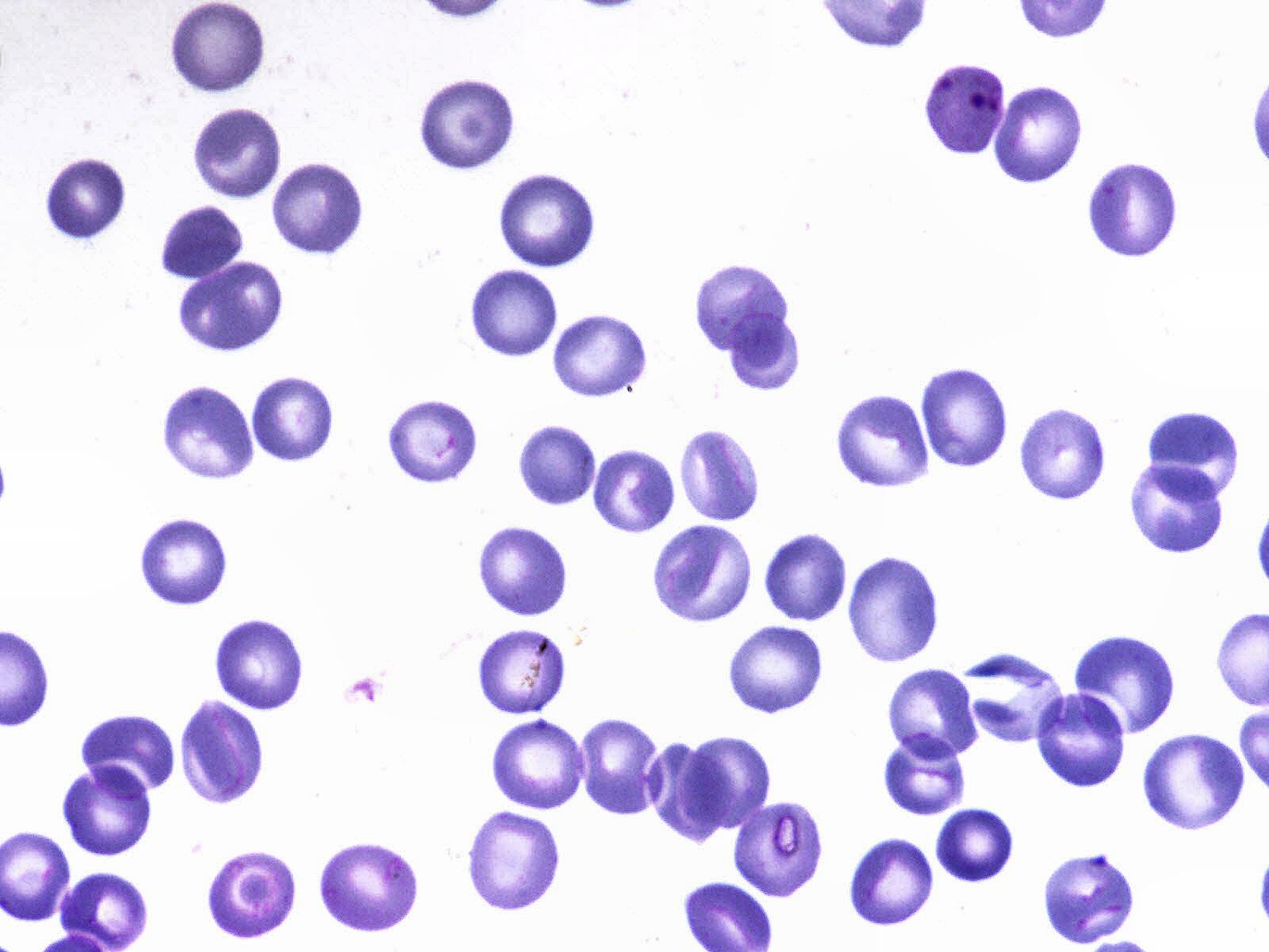Infected: (924, 63, 1006, 154)
Uninfected: (493, 170, 600, 271), (1143, 729, 1248, 831), (851, 552, 940, 668), (1074, 636, 1180, 733), (316, 840, 421, 937), (269, 157, 369, 257), (652, 519, 749, 622), (888, 661, 983, 766), (677, 730, 771, 833), (179, 260, 283, 353), (838, 392, 936, 489), (466, 812, 562, 911), (213, 615, 309, 714), (577, 712, 665, 820), (194, 101, 286, 204), (728, 622, 828, 716), (489, 718, 590, 811), (959, 651, 1061, 742), (1033, 693, 1129, 789), (733, 795, 826, 894), (921, 366, 1008, 471), (420, 78, 516, 173), (182, 693, 261, 808), (1146, 409, 1241, 504), (1128, 459, 1221, 556), (210, 843, 299, 944), (59, 762, 152, 858), (137, 515, 232, 608), (549, 316, 658, 397), (171, 2, 264, 96), (696, 263, 790, 355), (1041, 851, 1131, 947), (78, 711, 177, 798), (996, 86, 1082, 185), (1088, 163, 1177, 258), (166, 386, 254, 482), (470, 267, 560, 360), (1020, 409, 1109, 503), (849, 837, 937, 931), (646, 743, 731, 839), (480, 526, 569, 616), (249, 374, 338, 464), (476, 628, 565, 718), (765, 528, 848, 623), (590, 447, 677, 534), (883, 733, 974, 816), (389, 397, 477, 482), (516, 422, 600, 509), (680, 431, 758, 524), (44, 155, 128, 241), (59, 871, 148, 952), (932, 802, 1014, 881), (162, 205, 245, 281), (730, 312, 801, 391)
